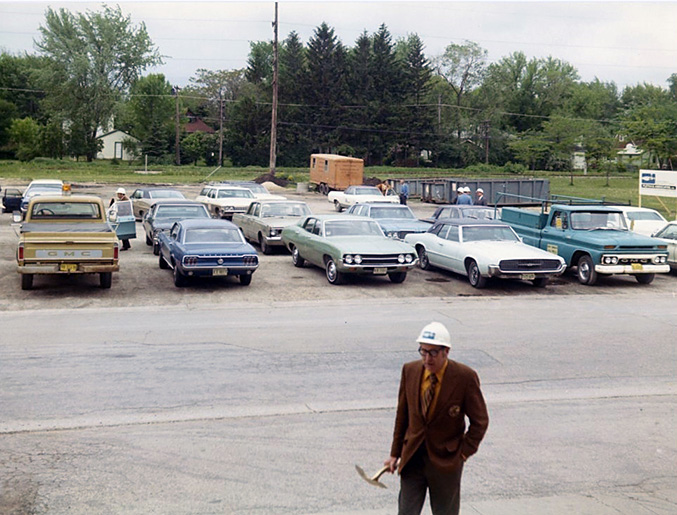car: (488, 188, 669, 289), (403, 215, 570, 296), (277, 211, 419, 293), (16, 197, 125, 295), (153, 220, 264, 289), (227, 201, 327, 253), (141, 196, 216, 252), (320, 178, 401, 210), (194, 183, 265, 212)
